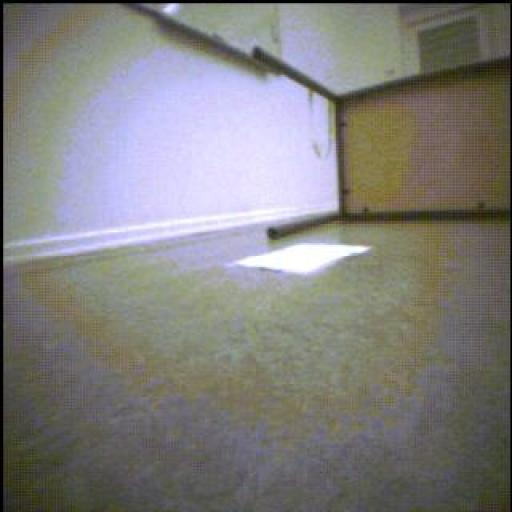Pad: (235, 244, 371, 276)
